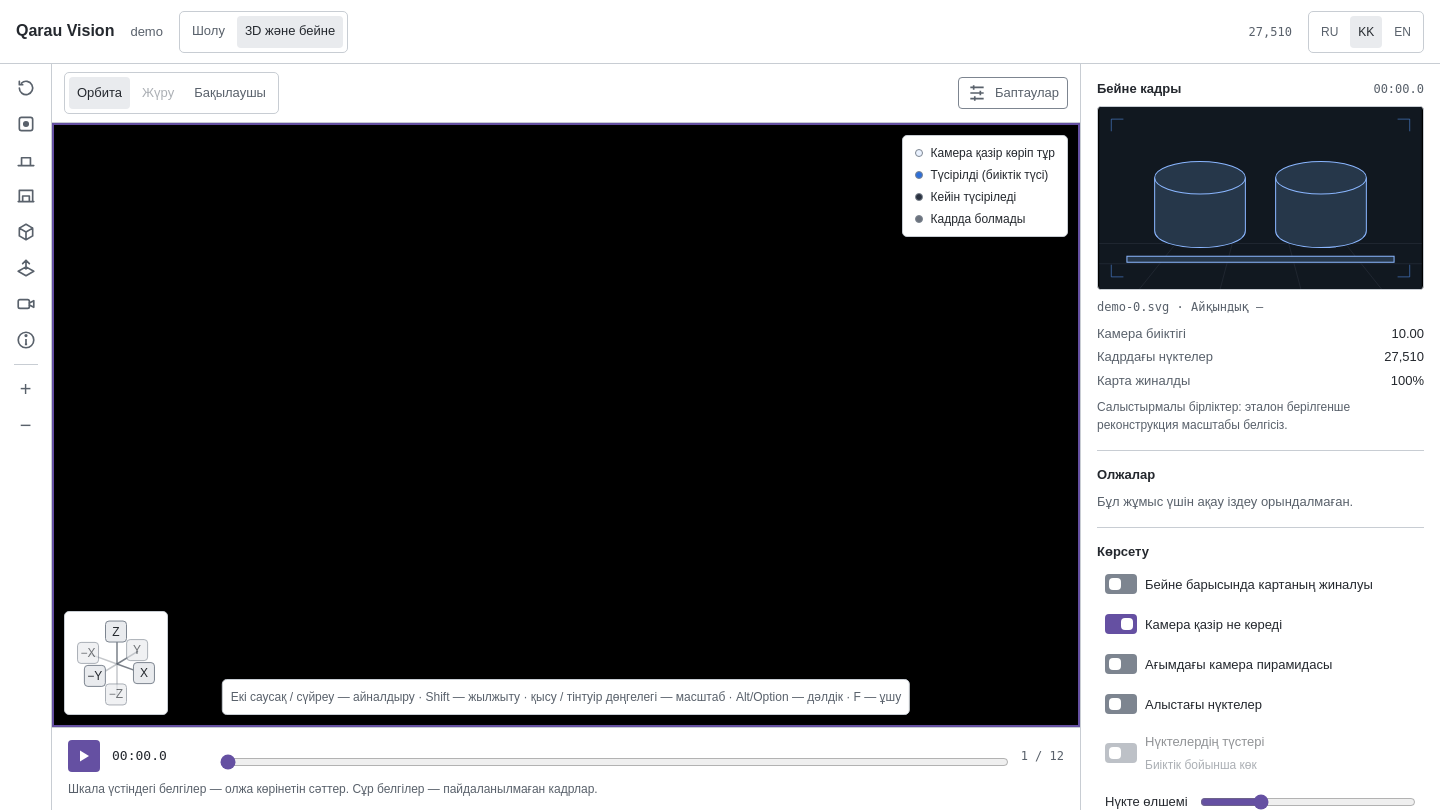
Test case: localizes axis controls and the Observer hint in kk
Check: the button named "Оң жақтан көрініс (+X)" is shown, box [133, 662, 155, 684]
Check: the button named "Сол жақтан көрініс (−X)" is shown, box [77, 642, 99, 664]
Press f in the drawing named "Интерактивті 3D-карта: нүктелер бұлты және камера жолы. Екі саусақпен не тінтуірмен сүйреу — айналдыру, Shift — жылжыту,", box [52, 123, 1080, 727]
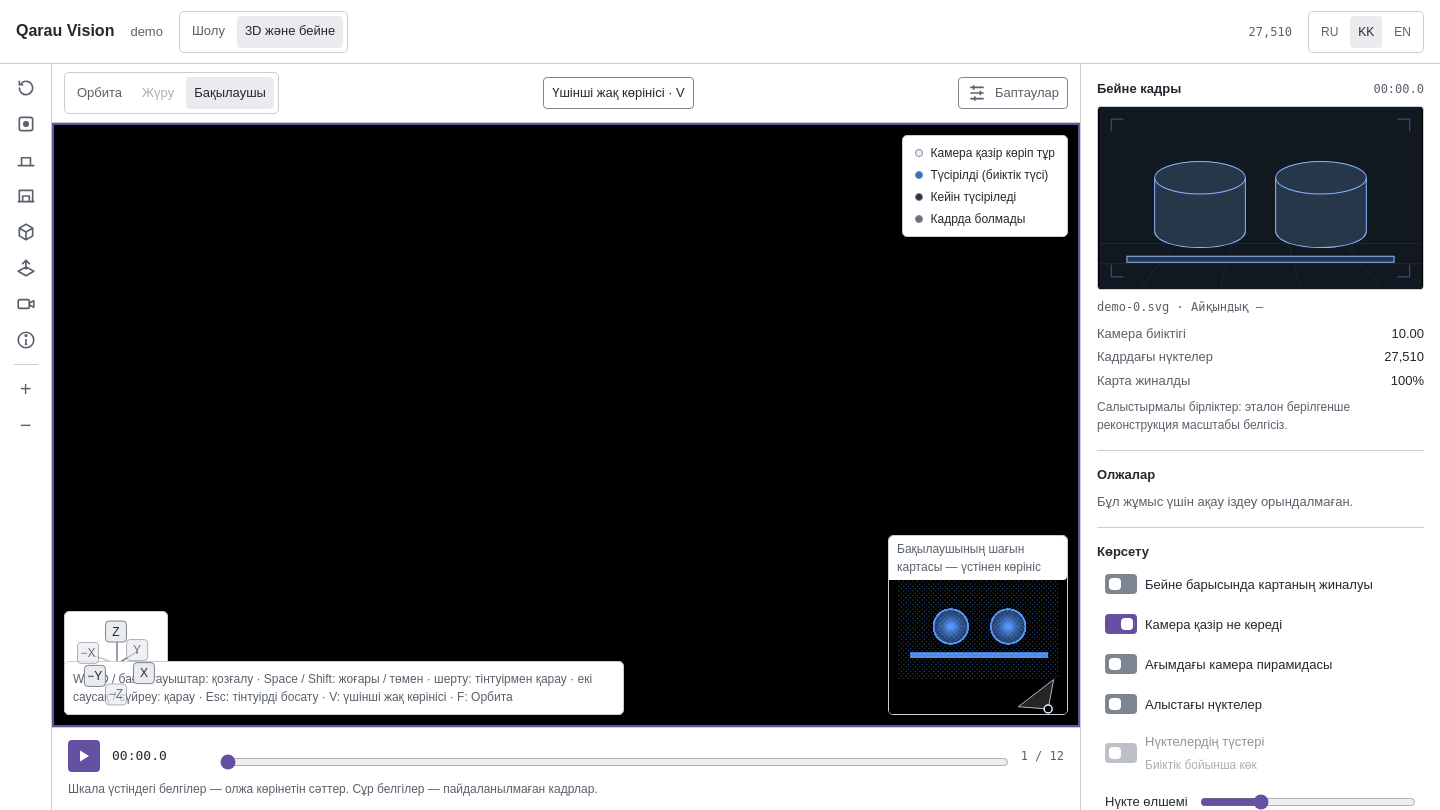
Check: the message shows "WASD / бағыттауыштар: қозғалу · Space / Shift: жоғары / төмен · шерту: тінтуірмен қарау · екі саусақ / сүйреу: қарау · Esc: тінтуірді босату · V: үшінші жақ көр", box [73, 672, 592, 704]
Click the button named "Жоғарыдан көрініс (+Z)": coordinates (116, 632) [105, 620, 127, 642]
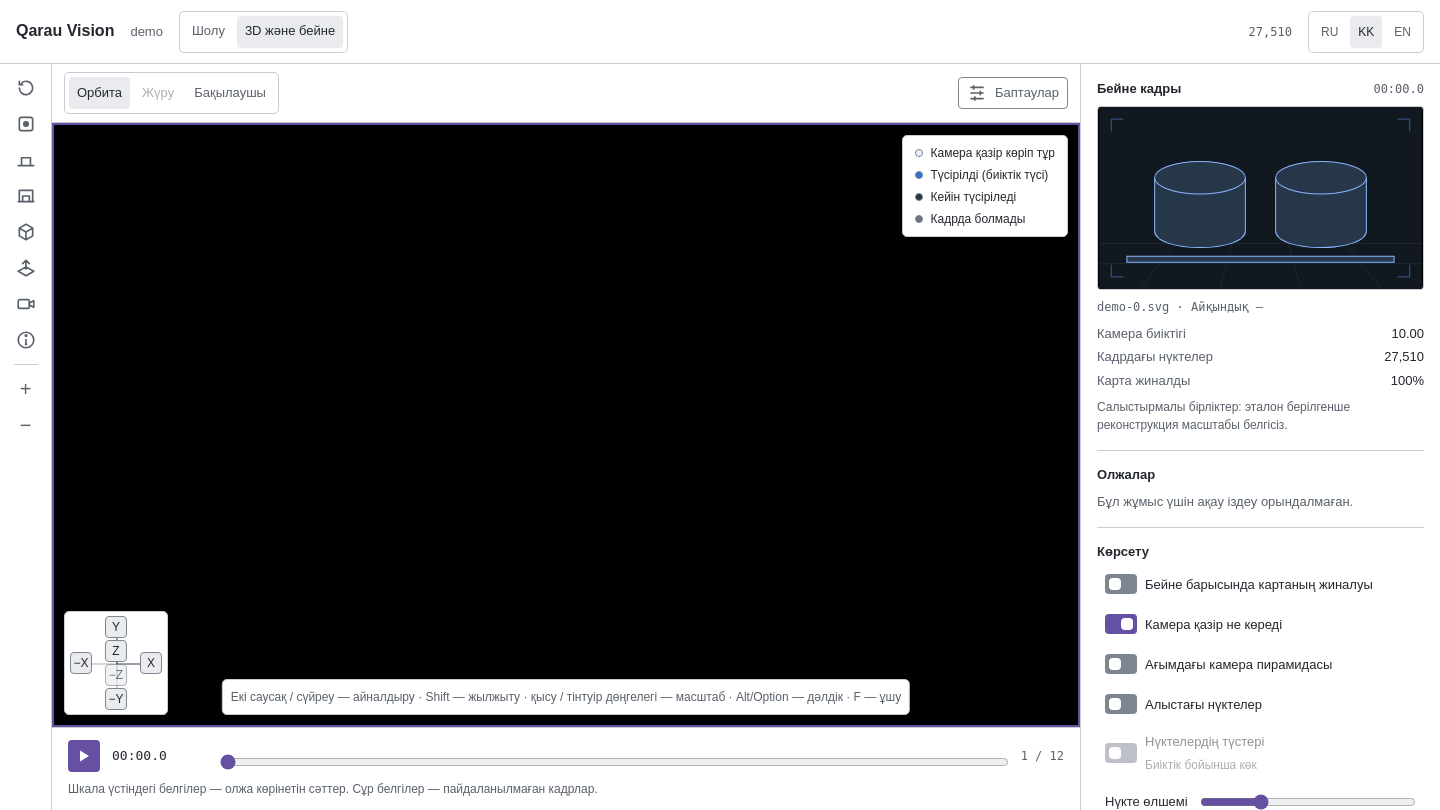
Check: the message shows "Екі саусақ / сүйреу — айналдыру · Shift — жылжыту · қысу / тінтуір дөңгелегі — масштаб · Alt/Option — дәлдік · F — ұшу", box [231, 690, 901, 704]
